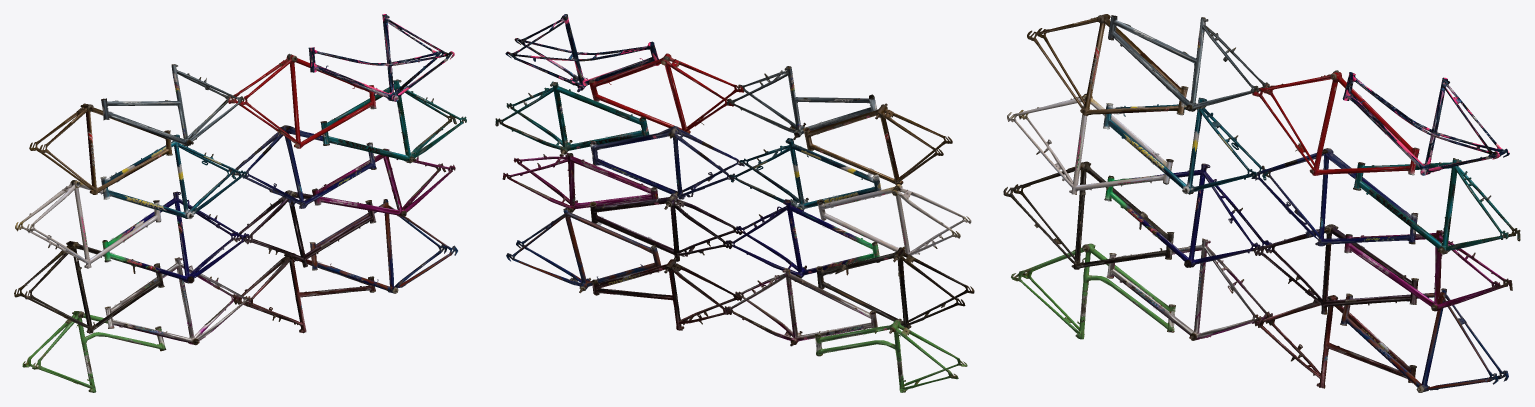
The model's file is FrameStructure_v4_10_1024.glb.
The picture shows the model from 3 angles, left to right: view 1: azimuth 30°, elevation 25°; view 2: azimuth 150°, elevation 25°; view 3: azimuth 330°, elevation 25°; orthographic projection. The views are drawn at different scales.
Size of the model in its own units: 3.19 by 2.03 by 0.294.
Materials: 17 (16 with a texture image).
